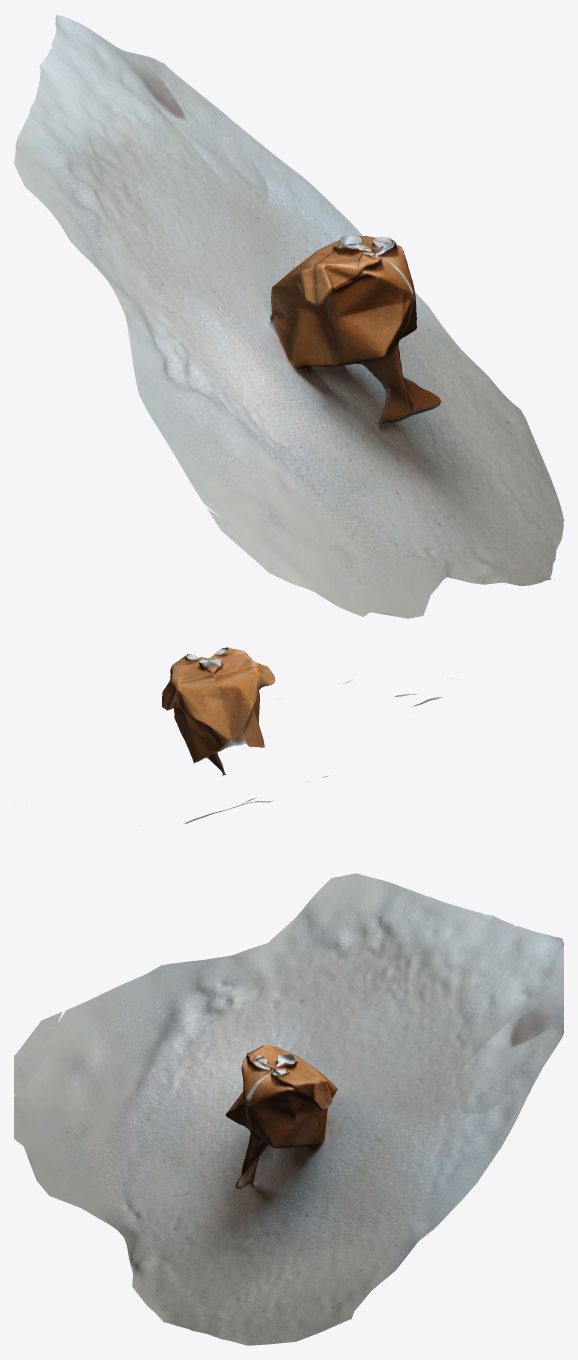
3 renders of one model, top to bottom at view 1: azimuth 30°, elevation 25°; view 2: azimuth 150°, elevation 25°; view 3: azimuth 270°, elevation 25°, orthographic. The views are drawn at different scales.
Bounding box in the file's own units: 1.71 × 1.34 × 2.18.
1 material, 1 textured.
